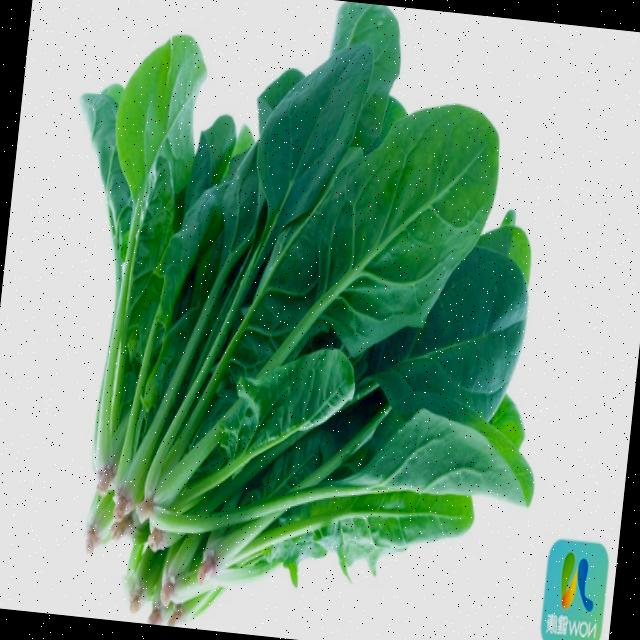spinach: (2, 0, 592, 640)
